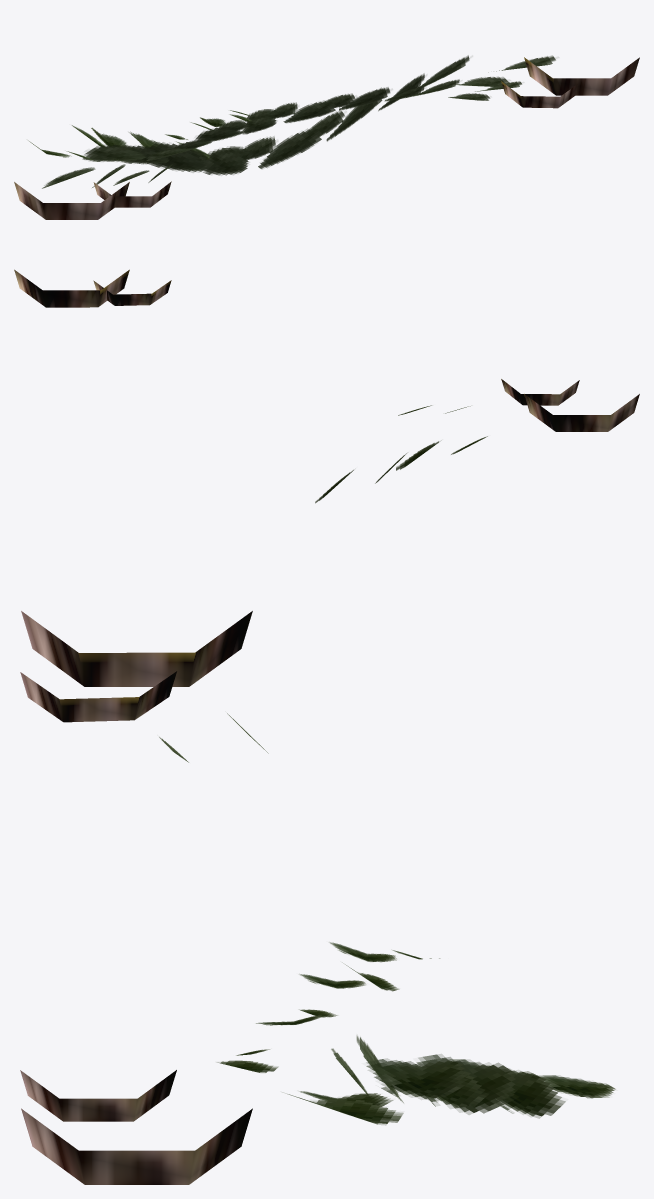
The picture shows the model from 3 angles, top to bottom: view 1: azimuth 30°, elevation 25°; view 2: azimuth 150°, elevation 25°; view 3: azimuth 270°, elevation 25°; orthographic projection. The views are drawn at different scales.
Visible parts, largest first — view 1: model_Object13; view 2: model_Object13; view 3: model_Object13.
Boxes of the visible parts, x1=… form: model_Object13: x1=14, y1=55, x2=639, y2=219; model_Object13: x1=14, y1=269, x2=639, y2=503; model_Object13: x1=20, y1=611, x2=615, y2=1184.
Size of the model in its own units: 2.24 by 0.4625 by 0.9963.
Materials: 2 (2 with a texture image).
